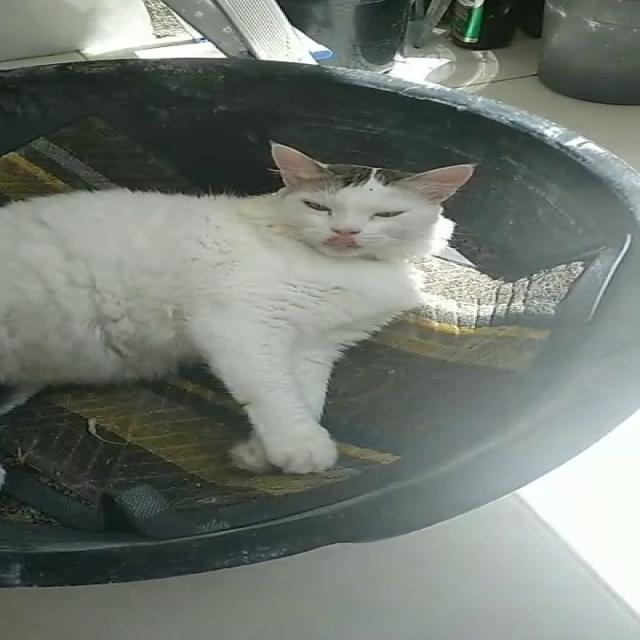Simba: (12, 133, 494, 494)
